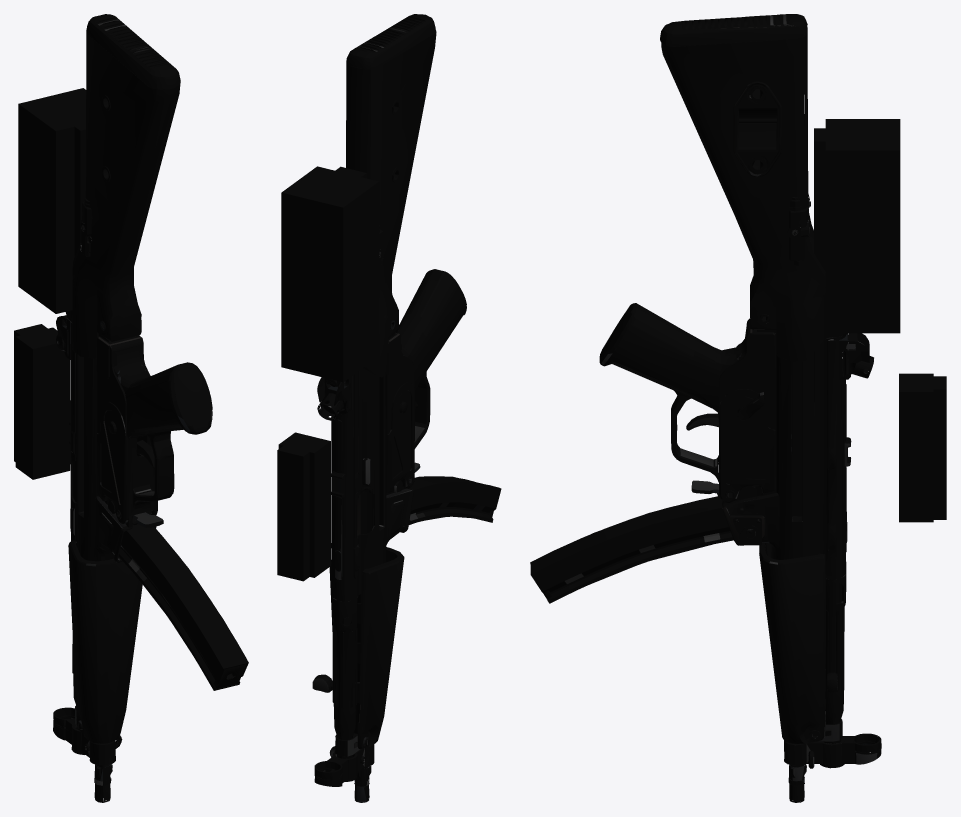
Rendered from MP5A3__Handguard_MP5_Rail__Laser_Pistol__Mount_HK_Claw.fbx.
3 views of the same model, side by side, from view 1: azimuth 30°, elevation 25°; view 2: azimuth 150°, elevation 25°; view 3: azimuth 270°, elevation 25° (orthographic). The views are drawn at different scales.
Parts seen in each view (by area): view 1: asset_MP5A3.001; view 2: asset_MP5A3.001; view 3: asset_MP5A3.001.
Part boxes in pixels (x1=…): asset_MP5A3.001: x1=14, y1=14, x2=248, y2=802; asset_MP5A3.001: x1=277, y1=14, x2=501, y2=802; asset_MP5A3.001: x1=530, y1=14, x2=946, y2=802.
Size of the model in its own units: 0.0324 by 0.36 by 0.1734.
